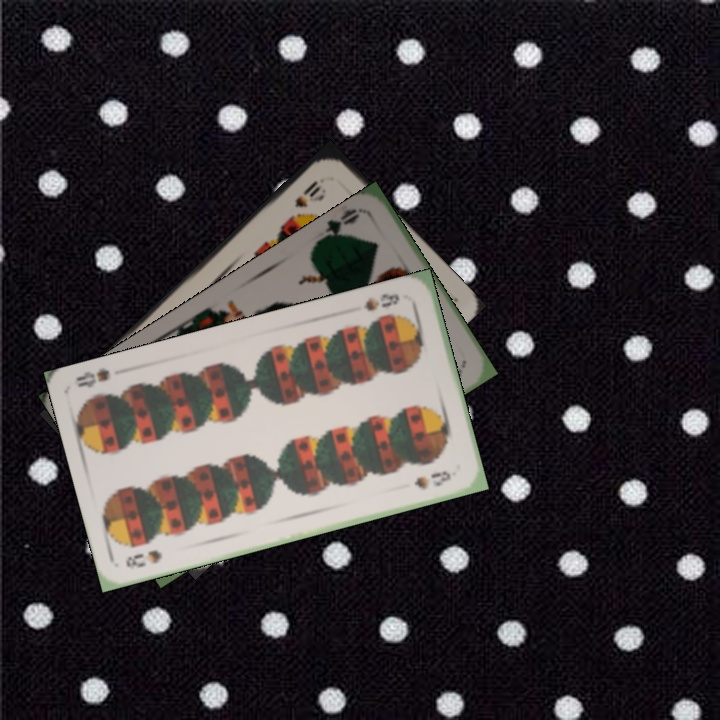GO: (313, 204, 364, 244)
S10: (291, 176, 324, 210)
S8: (121, 546, 165, 572), (360, 289, 403, 314)
